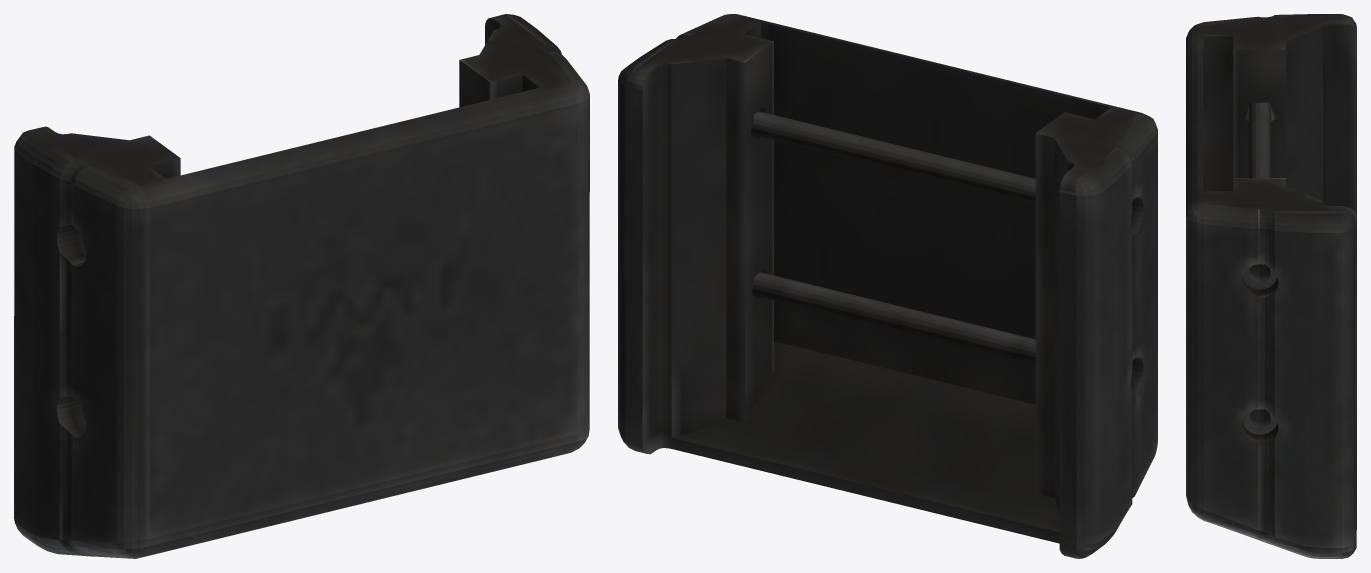
The picture shows the model from 3 angles, left to right: view 1: azimuth 30°, elevation 25°; view 2: azimuth 150°, elevation 25°; view 3: azimuth 270°, elevation 25°; orthographic projection. The views are drawn at different scales.
Parts seen in each view (by area): view 1: TW_66881008f23233ee9a0742e7_PZ_Import; view 2: TW_66881008f23233ee9a0742e7_PZ_Import; view 3: TW_66881008f23233ee9a0742e7_PZ_Import.
Boxes of the visible parts, left/top/right/bottom form: TW_66881008f23233ee9a0742e7_PZ_Import: left=14, top=14, right=589, bottom=558; TW_66881008f23233ee9a0742e7_PZ_Import: left=618, top=14, right=1157, bottom=558; TW_66881008f23233ee9a0742e7_PZ_Import: left=1186, top=14, right=1356, bottom=558.
Bounding box in the file's own units: 0.0237 × 0.00805 × 0.0181.
Materials: 1 (1 with a texture image).
